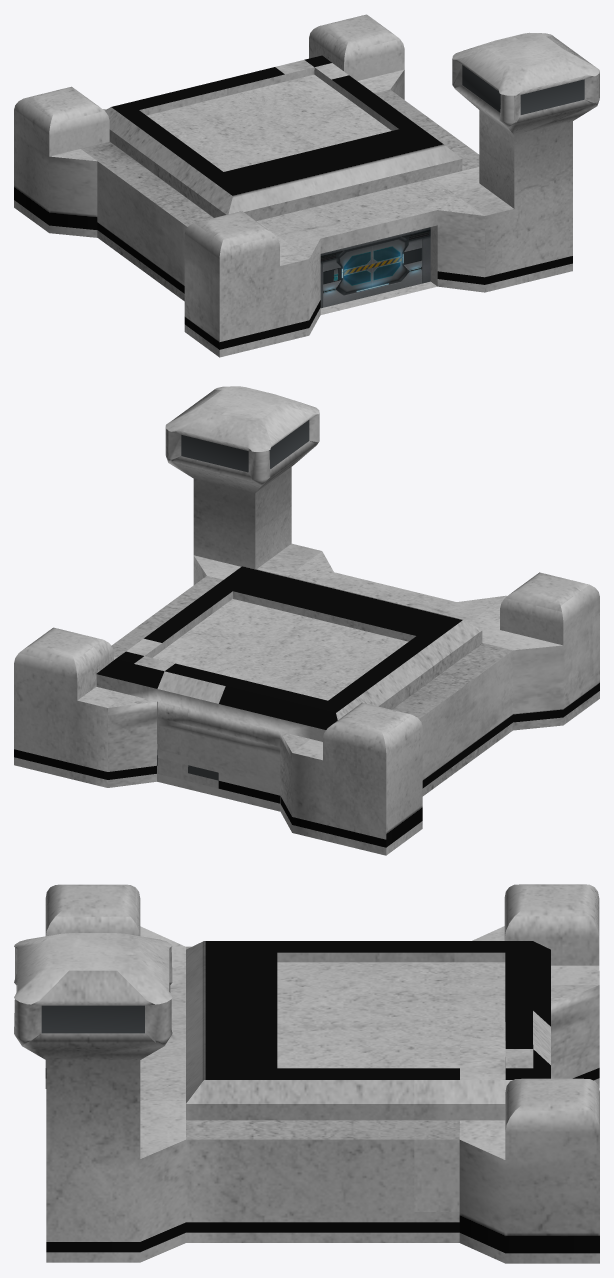
Rendered from bunker2.fbx.
3 renders of one model, top to bottom at view 1: azimuth 30°, elevation 25°; view 2: azimuth 150°, elevation 25°; view 3: azimuth 270°, elevation 25°, orthographic. The views are drawn at different scales.
Parts seen in each view (by area): view 1: pasted__pCube1; view 2: pasted__pCube1; view 3: pasted__pCube1.
Part boxes in pixels (left/top/right/bottom): pasted__pCube1: left=14, top=14, right=599, bottom=357; pasted__pCube1: left=14, top=386, right=599, bottom=855; pasted__pCube1: left=14, top=884, right=599, bottom=1263.
Size of the model in its own units: 25.57 by 14.09 by 25.68.
Materials: 1 (1 with a texture image).
